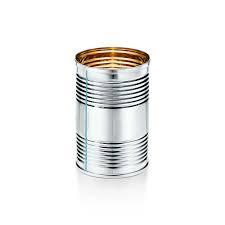Tin: (70, 33, 171, 193)
